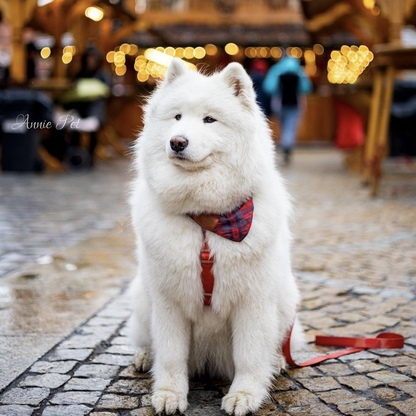samoyed: (118, 53, 318, 416)
